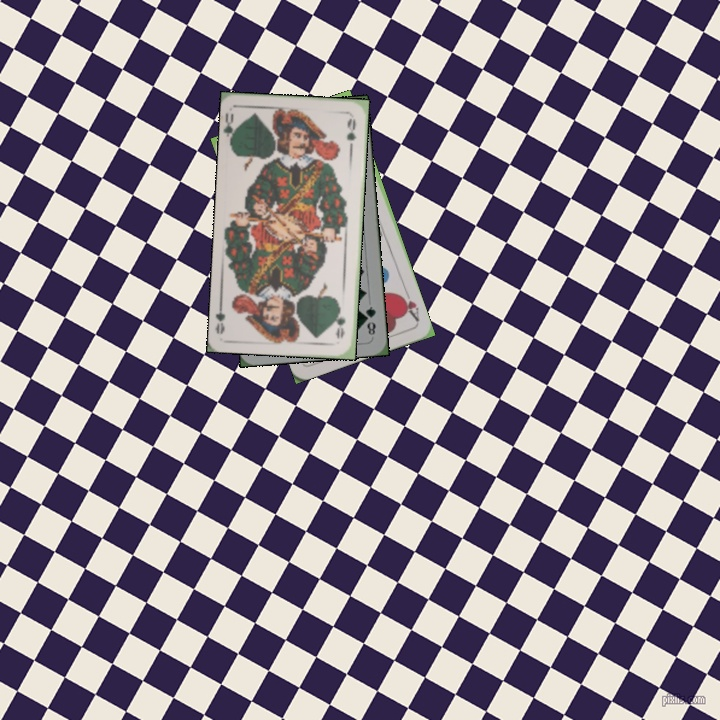G8: (361, 302, 378, 340)
GO: (222, 109, 242, 148), (332, 302, 348, 341)
HA: (396, 285, 422, 324)
